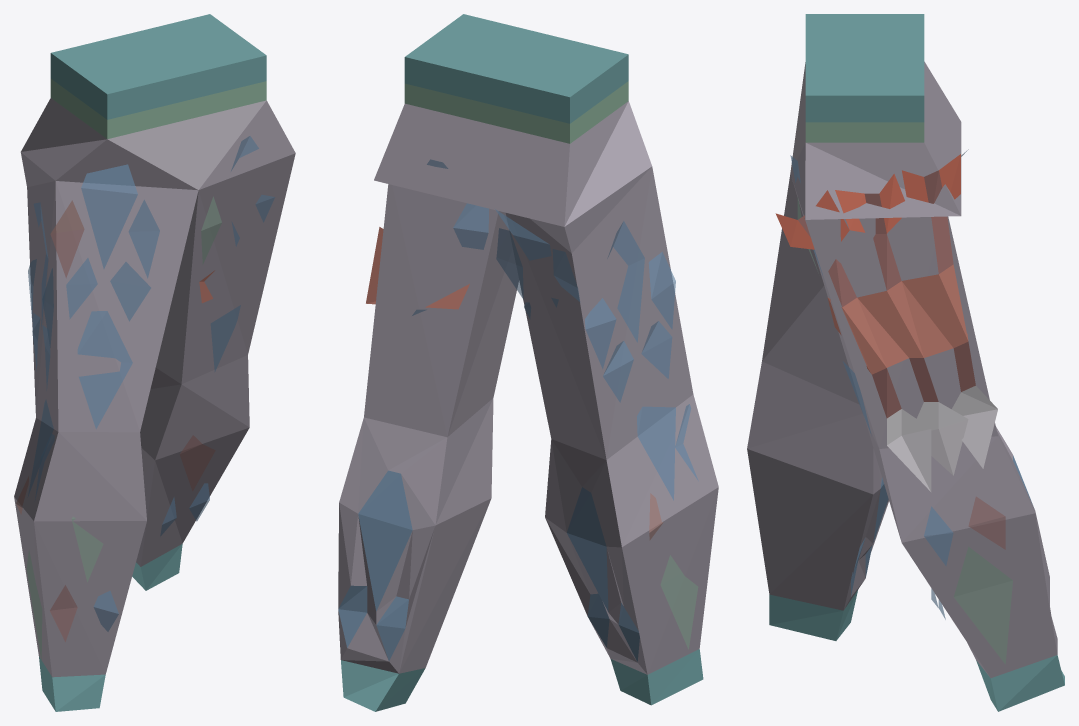
File: player_hueycoatl_hide_chaps.glb
The picture shows the model from 3 angles, left to right: view 1: azimuth 30°, elevation 25°; view 2: azimuth 150°, elevation 25°; view 3: azimuth 270°, elevation 25°; orthographic projection. The views are drawn at different scales.
Size of the model in its own units: 43.76 by 93.74 by 42.83.
2 materials, 2 textured.
